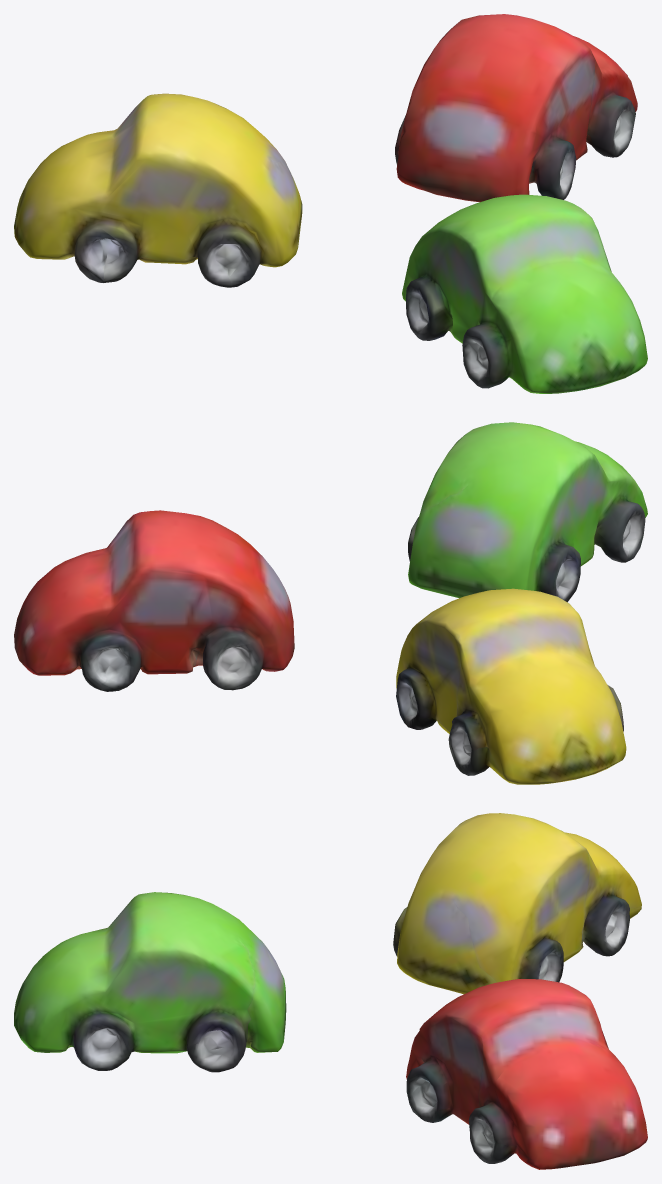
Rendered from CARSII-high.glb.
3 views of the same model, one above another, from view 1: azimuth 30°, elevation 25°; view 2: azimuth 150°, elevation 25°; view 3: azimuth 270°, elevation 25° (orthographic). The views are drawn at different scales.
Visible parts, largest first — view 1: CARSII; view 2: CARSII; view 3: CARSII.
Boxes of the visible parts, x1=… form: CARSII: x1=14, y1=14, x2=647, y2=393; CARSII: x1=14, y1=422, x2=647, y2=784; CARSII: x1=14, y1=813, x2=647, y2=1169.
Bounding box in the file's own units: 0.1227 × 0.0274 × 0.1155.
1 material, 1 textured.
